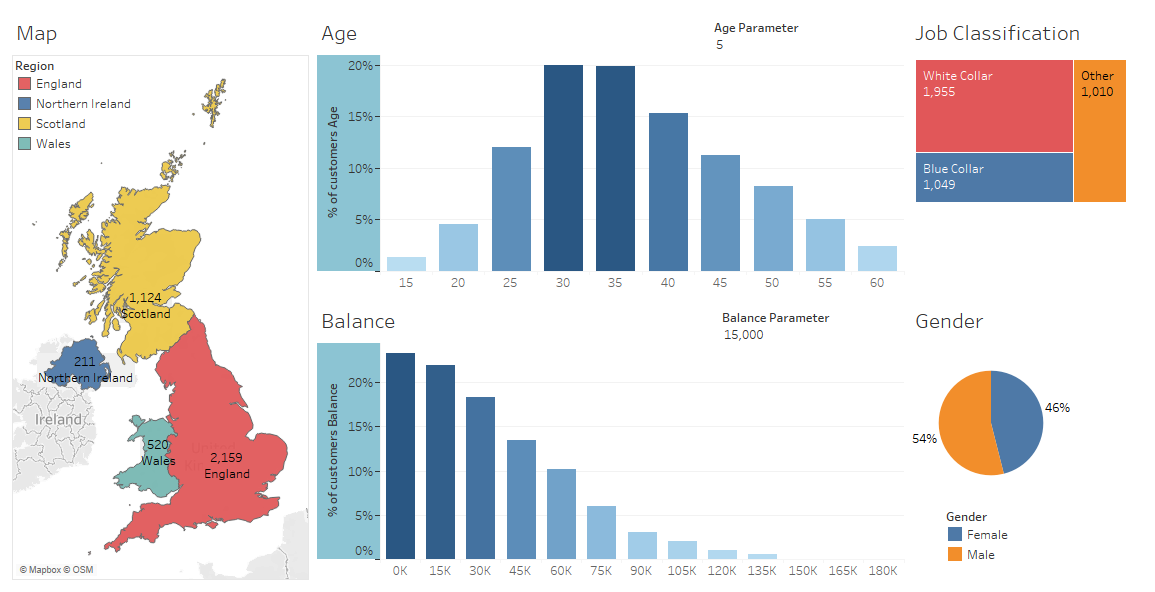

Layout of this report page (visuals, bound fields, positions):
{"tool":"tableau","page":{"name":"Dashboard 1","canvas":[1000,1000],"units":"permille","ordinal":0},"visuals":[{"type":"worksheet","title":"Map","mark":"Multipolygon","box":[6.9,13.5,263.9,973]},{"type":"worksheet","title":"Age","mark":"Automatic","rows":["P1-UK-Bank-Customers.csv_3A2F7320440E442CB4400EC83EDB7CDE"],"cols":["Age (bin)"],"box":[270.8,13.5,514.7,486.5]},{"type":"worksheet","title":"Job Classification","mark":"Automatic","box":[785.5,13.5,207.6,486.5]},{"type":"parameter","param":"[Parameters].[Age Parameter]","box":[618.2,30.4,138.5,113.2]},{"type":"legend","title":"Map","param":"[federated.06mbbxm0u0v07m1e0864201qvh0o].[none:Region:nk]","box":[12.1,92.9,121.2,165.5]},{"type":"worksheet","title":"Balance","mark":"Automatic","rows":["P1-UK-Bank-Customers.csv_3A2F7320440E442CB4400EC83EDB7CDE"],"cols":["Balance (bin)"],"box":[270.8,500,514.7,486.5]},{"type":"worksheet","title":"Gender","mark":"Pie","box":[785.5,500,207.6,486.5]},{"type":"parameter","param":"[Parameters].[Balance Parameter]","box":[625.1,520.3,138.5,113.2]},{"type":"legend","title":"Gender","param":"[federated.06mbbxm0u0v07m1e0864201qvh0o].[none:Gender:nk]","box":[818.2,854.7,121.2,98]}]}

Visuals, with their boxes on the dashboard's canvas, which has no fixed pixel size, in thousandths of its width and height (x1, y1, x2, y2). These are canvas units, not pixel positions in the 1155x592 screenshot, which may show the page scaled, cropped or inside an application window:
"Map" worksheet (Multipolygon marks): {"left": 7, "top": 14, "right": 271, "bottom": 986}
"Age" worksheet: {"left": 271, "top": 14, "right": 786, "bottom": 500}
"Job Classification" worksheet: {"left": 786, "top": 14, "right": 993, "bottom": 500}
parameter: {"left": 618, "top": 30, "right": 757, "bottom": 144}
"Map" legend: {"left": 12, "top": 93, "right": 133, "bottom": 258}
"Balance" worksheet: {"left": 271, "top": 500, "right": 786, "bottom": 986}
"Gender" worksheet (Pie marks): {"left": 786, "top": 500, "right": 993, "bottom": 986}
parameter: {"left": 625, "top": 520, "right": 764, "bottom": 634}
"Gender" legend: {"left": 818, "top": 855, "right": 939, "bottom": 953}
